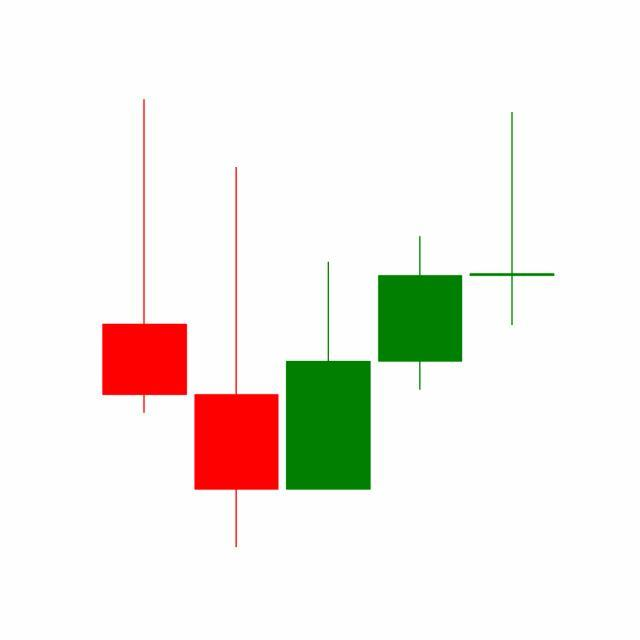Spinning Top: (466, 111, 559, 330)
